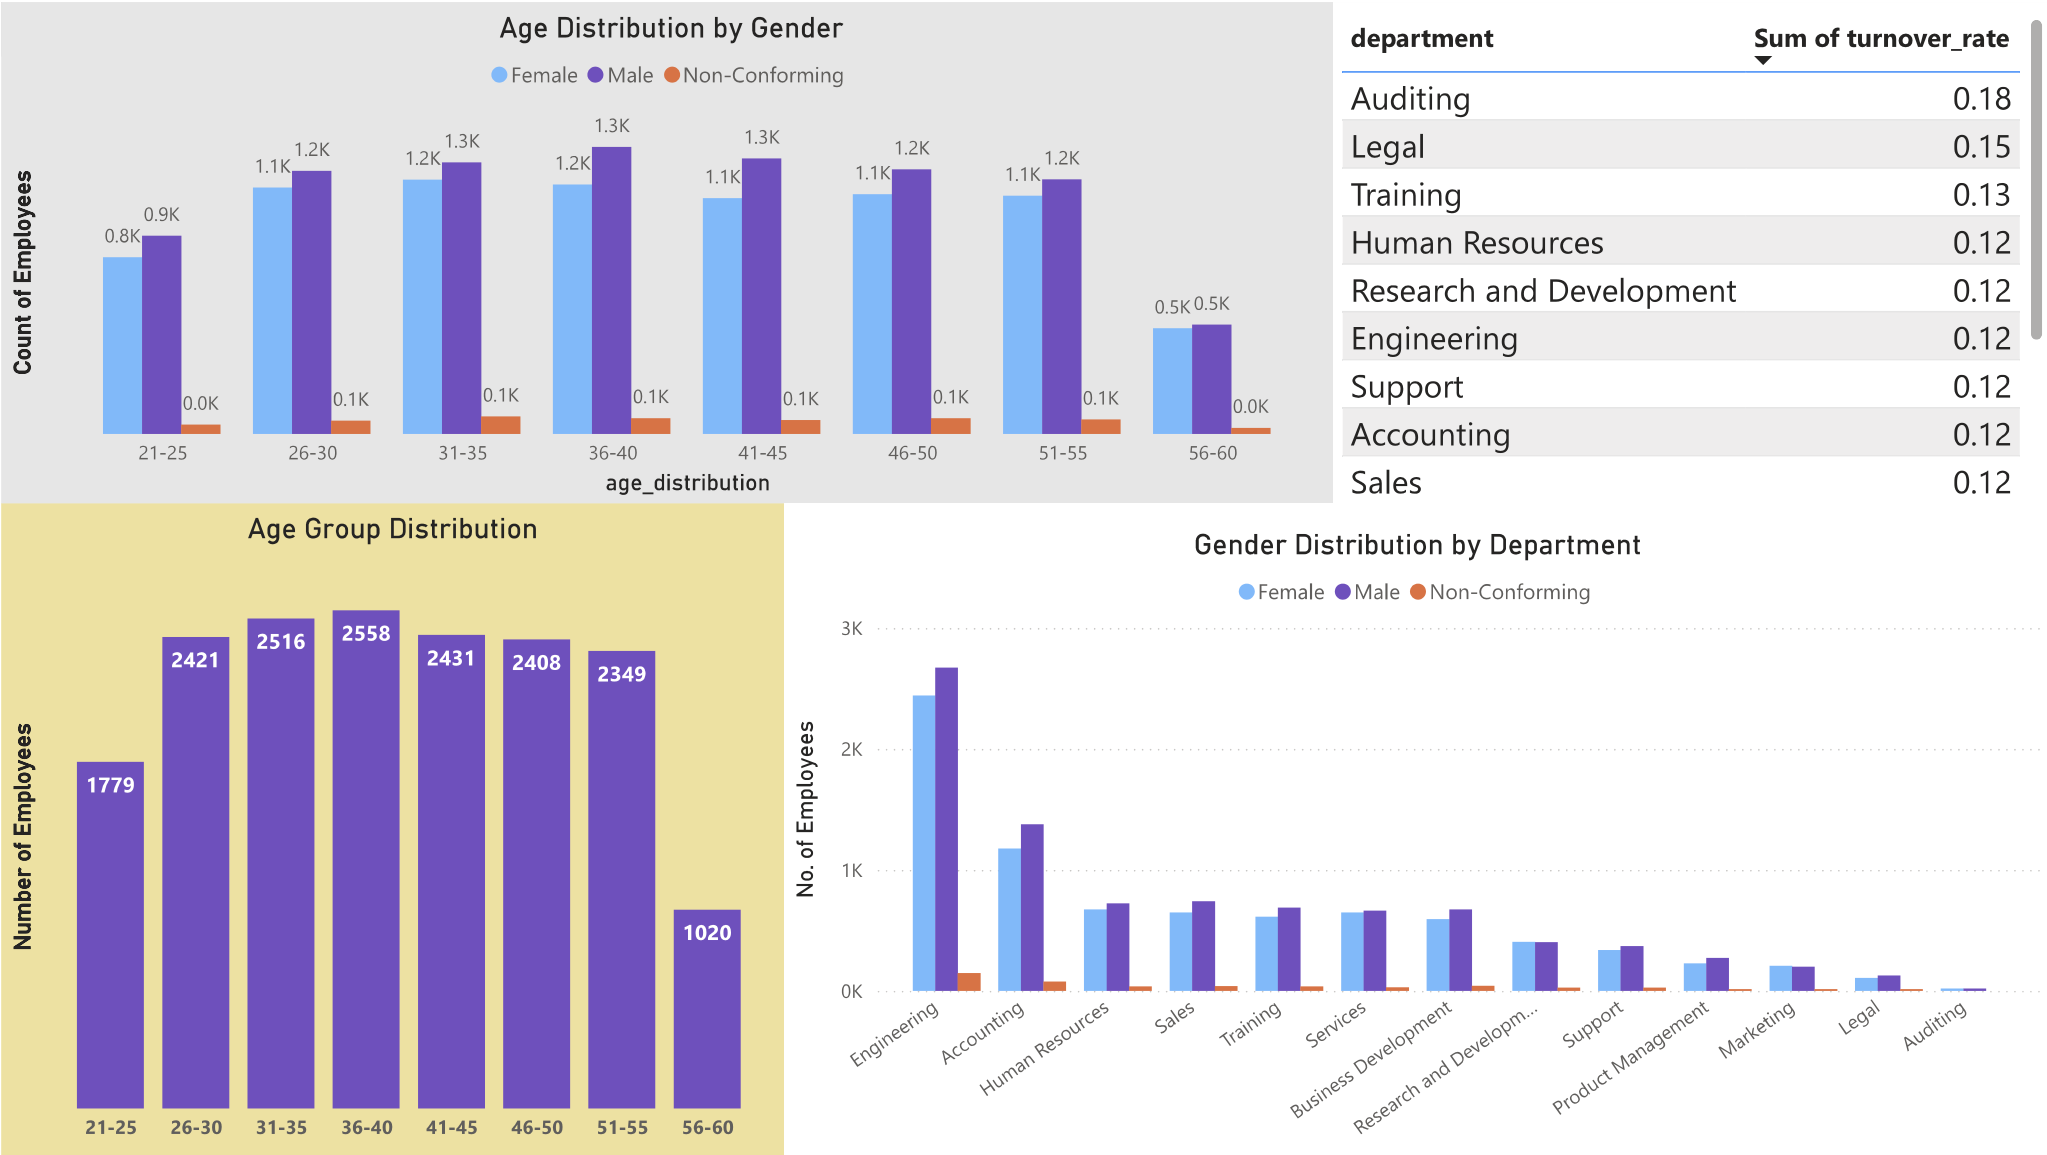

This screenshot's page, from the dashboard's own definition file:
{"tool":"powerbi","page":{"name":"Page 2","canvas":[1280,720],"ordinal":1},"visuals":[{"type":"columnChart","title":"Age Group Distribution","fields":{"Category":["age_group.age_distribution"],"Y":["Sum(age_group.count)"]},"box":[0,312.5,489,408],"z":0},{"type":"clusteredColumnChart","title":"Age Distribution by Gender","fields":{"Category":["age_group_gender.age_distribution"],"Y":["Sum(age_group_gender.count)"],"Series":["age_group_gender.gender"]},"box":[0,0,832.3,312.5],"z":1000},{"type":"tableEx","fields":{"Values":["turnover_rate.department","Sum(turnover_rate.turnover_rate)"]},"box":[832.3,0,448.5,312.5],"z":2000},{"type":"clusteredColumnChart","title":"Gender Distribution by Department","fields":{"Y":["Sum(gender_dept.count)"],"Category":["gender_dept.department"],"Series":["gender_dept.gender"]},"box":[489,312.5,791.8,408],"z":3000}]}

Visuals, with their boxes in screenshot pixels (x1, y1, x2, y2), scaled from the page's 1280x720 canvas onto the 2047x1155 screenshot:
"Age Group Distribution" columnChart: (0, 501, 782, 1154)
"Age Distribution by Gender" clusteredColumnChart: (0, 0, 1331, 501)
tableEx - turnover_rate.department x Sum(turnover_rate.turnover_rate): (1331, 0, 2046, 501)
"Gender Distribution by Department" clusteredColumnChart: (782, 501, 2046, 1154)
